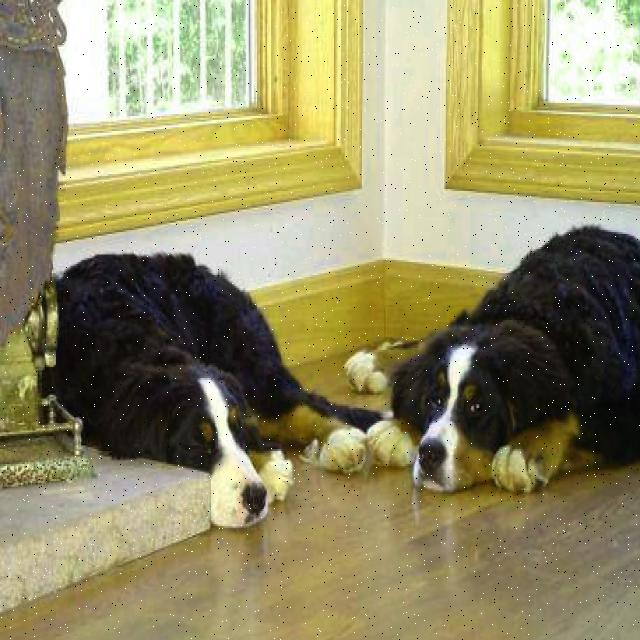Dog: (383, 322, 523, 509)
